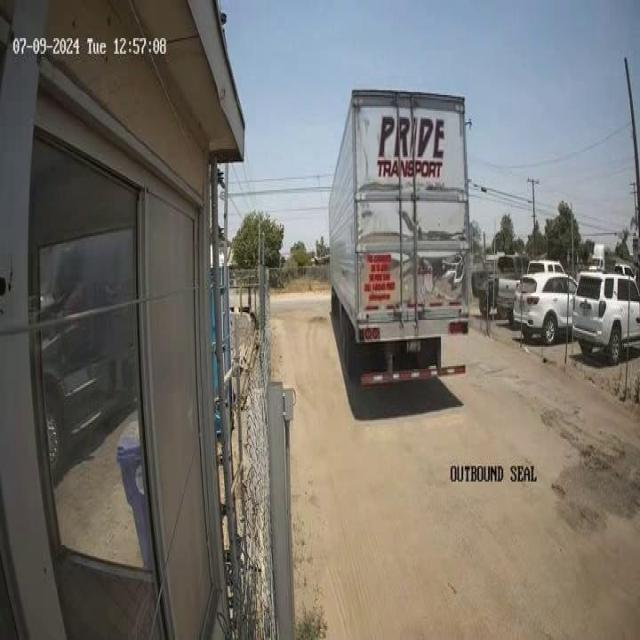TRUCK_CONTAINER: (328, 86, 472, 382)
